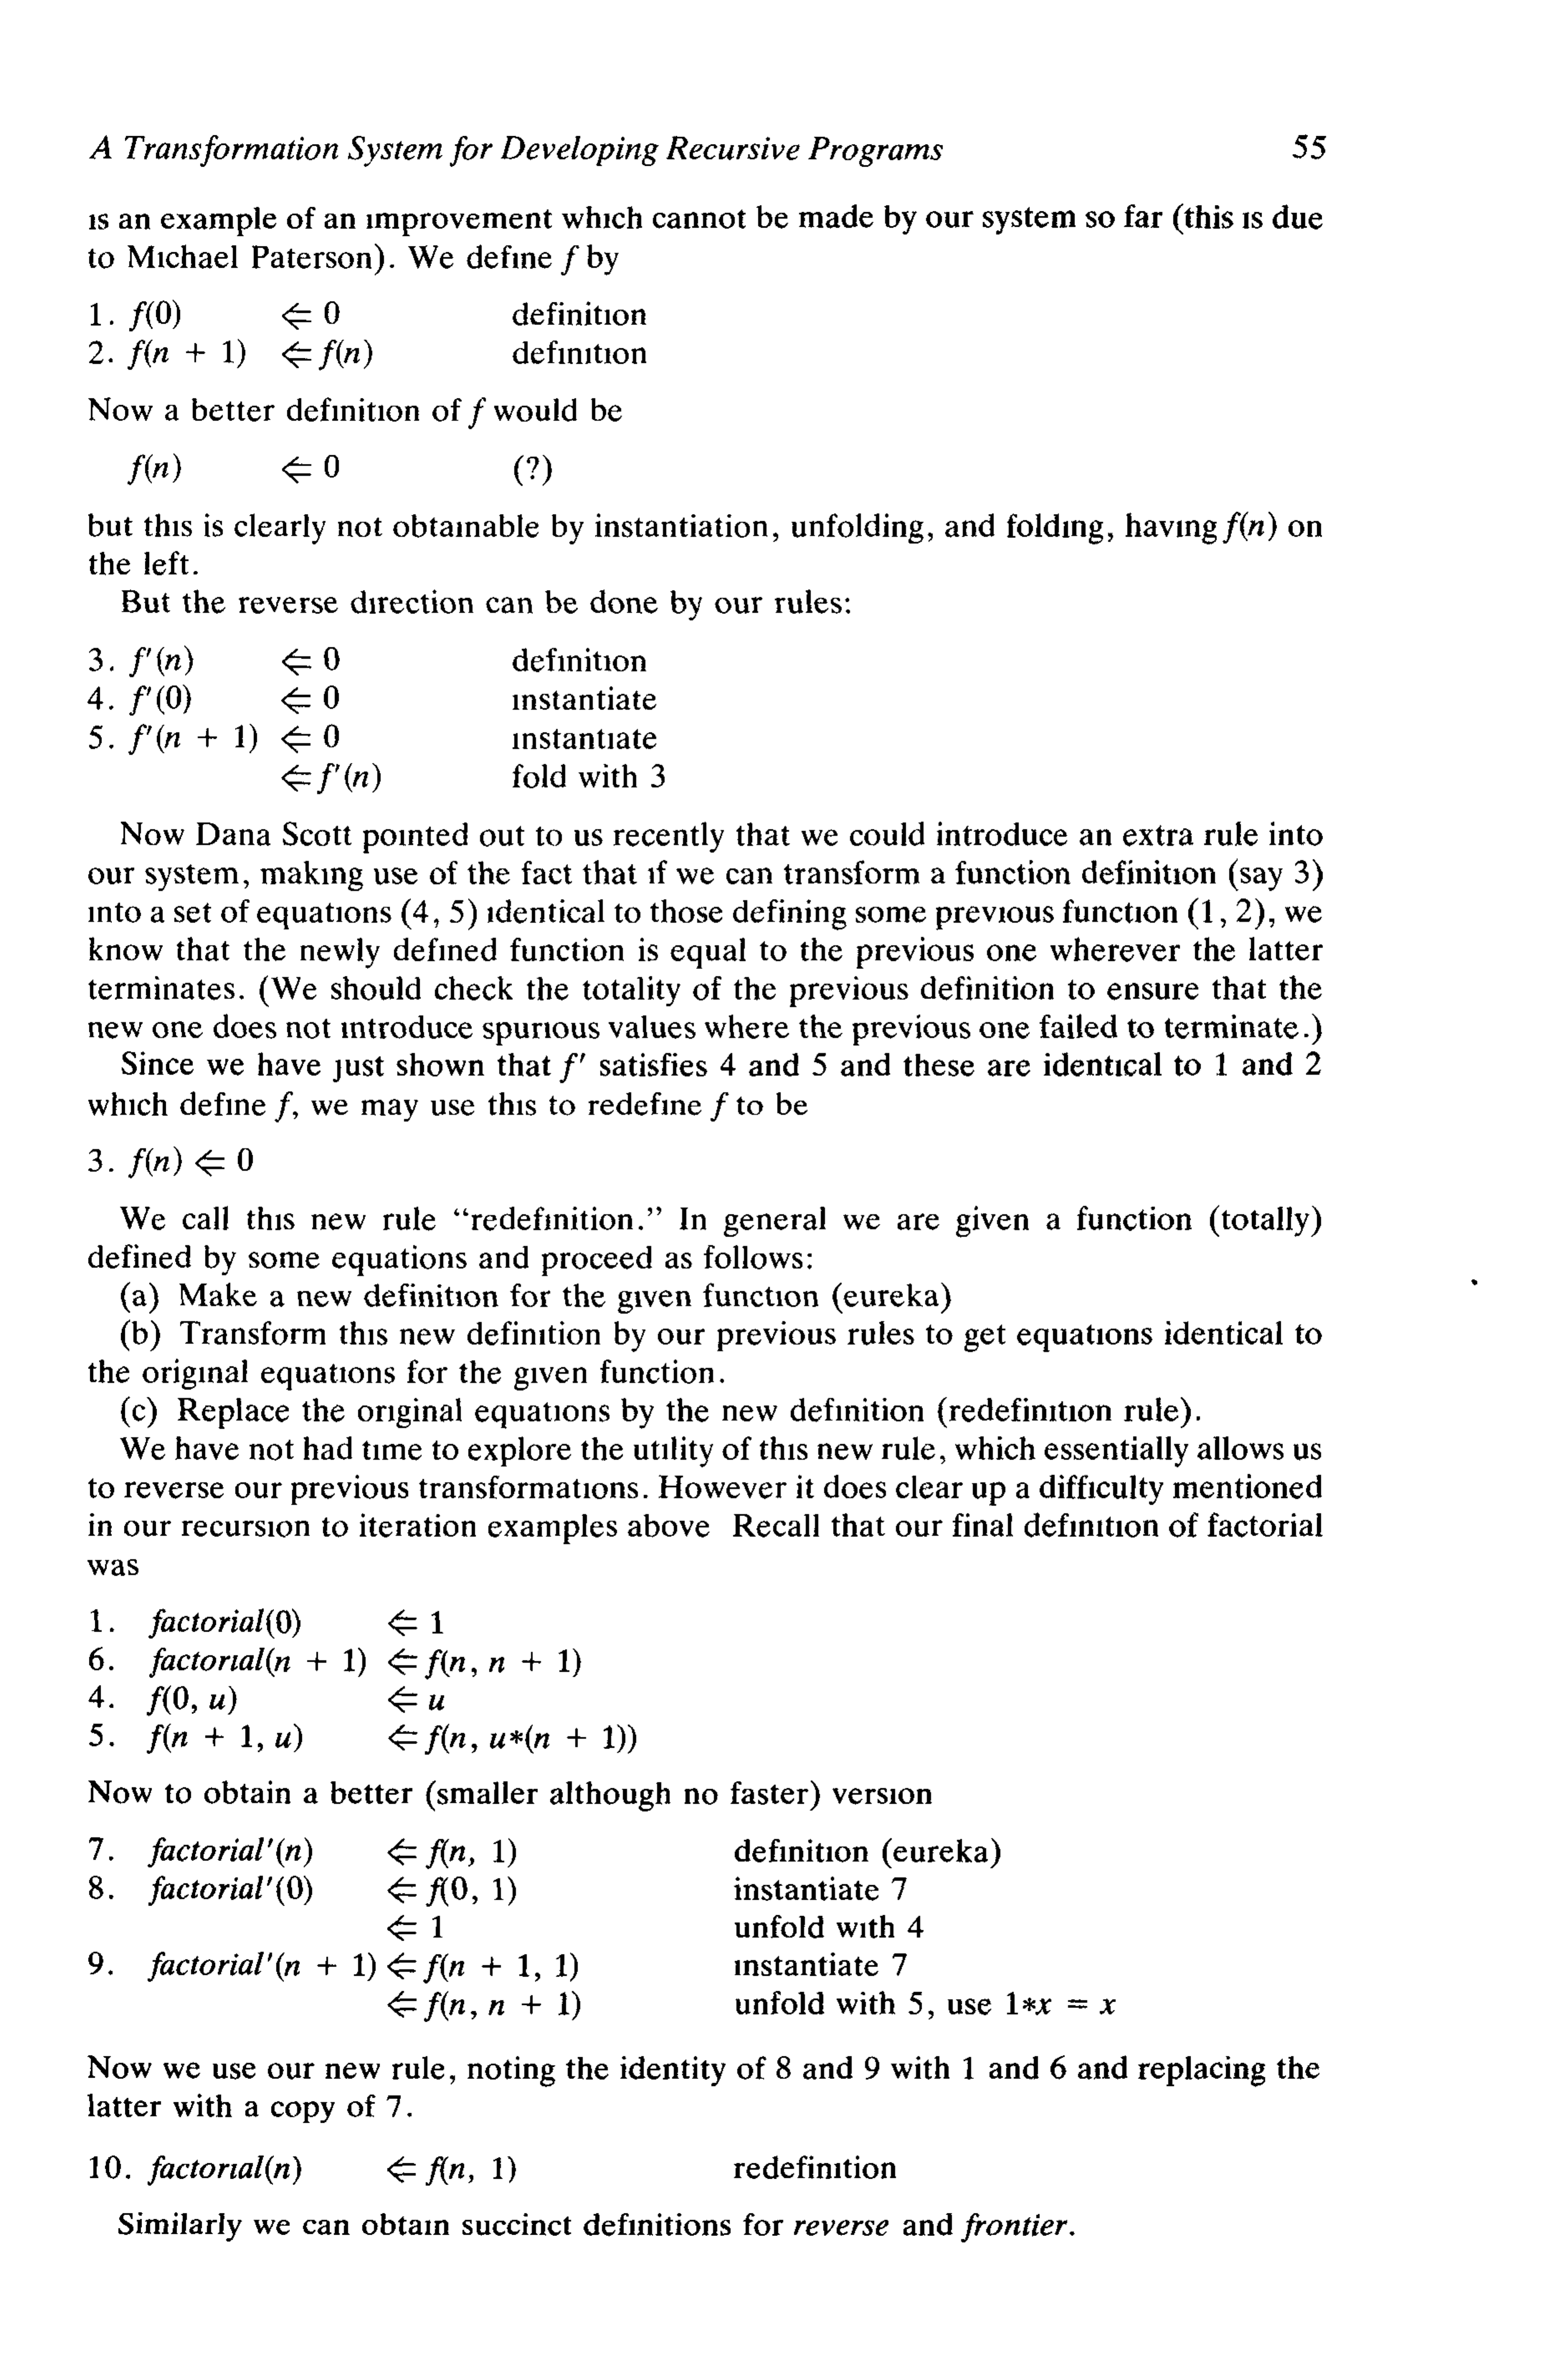maths: (129, 645, 339, 755), (150, 1646, 582, 1679), (388, 1723, 636, 1754), (149, 1952, 376, 1982), (388, 1990, 580, 2022), (388, 1952, 579, 1983), (149, 1837, 313, 1868), (149, 1875, 313, 1906), (147, 1723, 302, 1754), (149, 1608, 301, 1639), (149, 2155, 301, 2186), (388, 1838, 516, 1870), (129, 1146, 253, 1178), (388, 1877, 516, 1906), (128, 339, 245, 370), (961, 2212, 1068, 2242), (281, 764, 381, 793), (147, 1685, 238, 1716), (281, 341, 372, 370), (388, 2156, 474, 2186), (1007, 1992, 1115, 2015), (128, 453, 182, 486), (281, 454, 339, 484), (1222, 512, 1276, 543), (281, 302, 339, 330), (129, 301, 180, 332), (87, 648, 103, 750), (793, 2219, 888, 2235), (388, 1609, 444, 1636), (388, 1686, 444, 1712), (388, 1915, 442, 1941), (559, 1054, 586, 1083), (493, 2156, 516, 2183), (468, 397, 486, 430), (561, 246, 580, 276), (274, 1092, 294, 1122), (711, 1092, 729, 1122)
